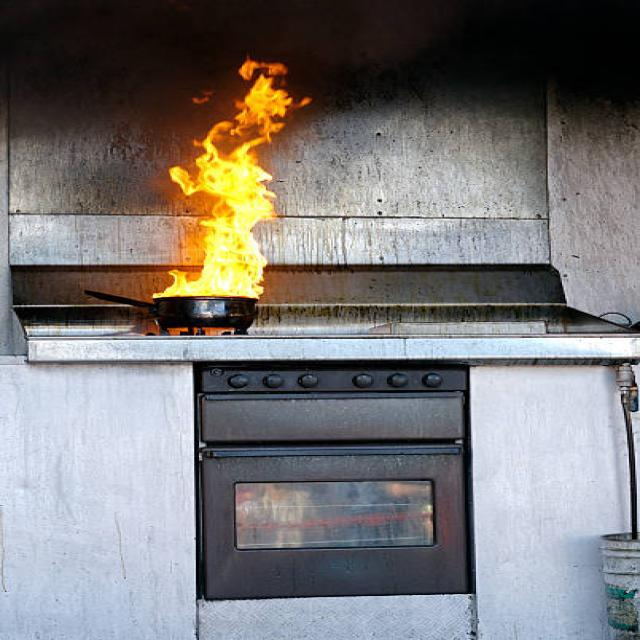fire: (143, 56, 311, 338)
